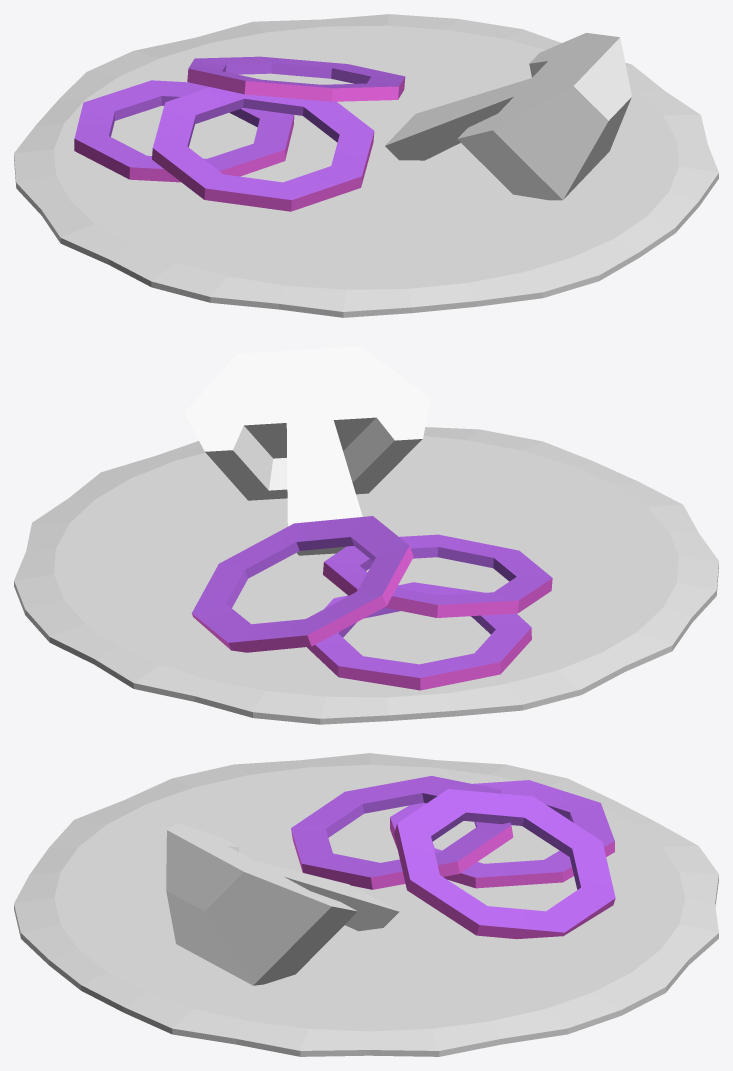
Rendered from Cooked Mushroom Onion Omelette.fbx.
The picture shows the model from 3 angles, top to bottom: view 1: azimuth 30°, elevation 25°; view 2: azimuth 150°, elevation 25°; view 3: azimuth 270°, elevation 25°; orthographic projection.
Parts seen in each view (by area): view 1: Omelette.001, mushroomHalf.017, Circle.015, Circle.013, Circle.014; view 2: Omelette.001, mushroomHalf.017, Circle.014, Circle.015, Circle.013; view 3: Omelette.001, mushroomHalf.017, Circle.014, Circle.015, Circle.013.
Part boxes in pixels (left/top/right/bottom): Omelette.001: left=14, top=14, right=718, bottom=317; mushroomHalf.017: left=385, top=33, right=631, bottom=200; Circle.015: left=152, top=87, right=374, bottom=211; Circle.013: left=74, top=80, right=294, bottom=182; Circle.014: left=187, top=56, right=405, bottom=101; Omelette.001: left=14, top=427, right=718, bottom=724; mushroomHalf.017: left=184, top=346, right=430, bottom=555; Circle.014: left=191, top=516, right=413, bottom=652; Circle.015: left=323, top=534, right=552, bottom=617; Circle.013: left=307, top=582, right=531, bottom=690; Omelette.001: left=14, top=753, right=718, bottom=1056; mushroomHalf.017: left=166, top=823, right=399, bottom=985; Circle.014: left=394, top=789, right=615, bottom=939; Circle.015: left=291, top=776, right=513, bottom=889; Circle.013: left=390, top=780, right=614, bottom=888.
Bounding box in the file's own units: 62.15 × 12.87 × 62.15.
